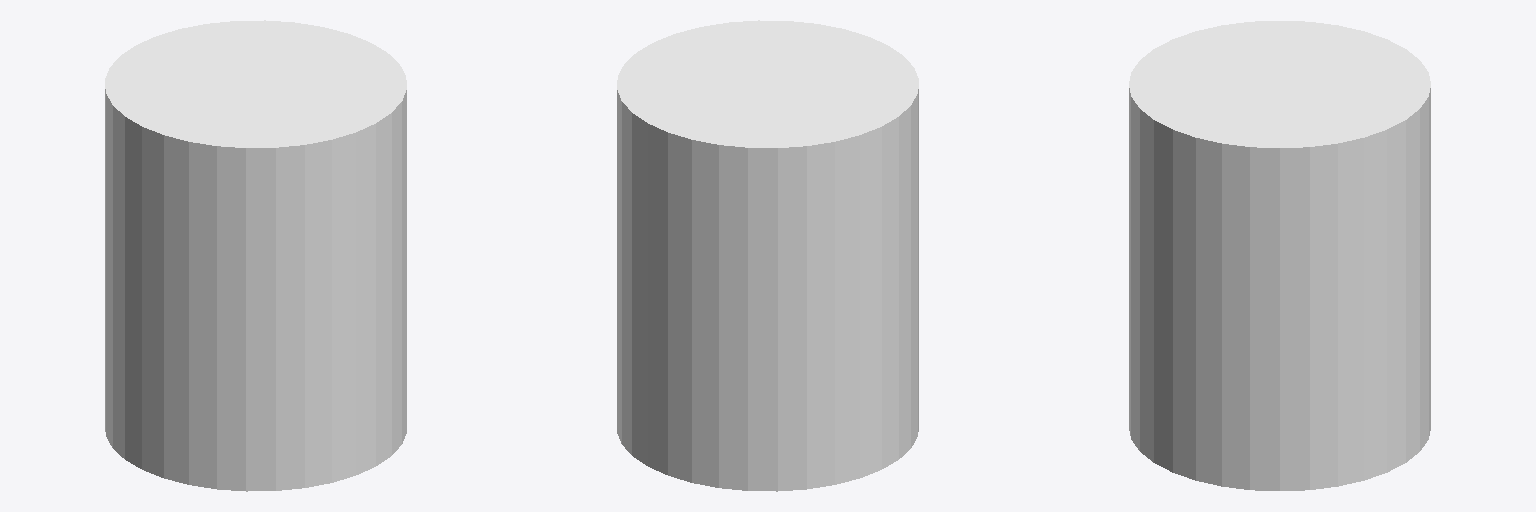
URDF robot description (digit):
<?xml version="1.0" ?>
<robot name="digit">
  <link concave="yes" name="baseLink">
    <inertial>
      <origin rpy="0 0 0" xyz="0 0 0"/>
       <mass value=".1"/>
       <inertia ixx="1" ixy="0" ixz="0" iyy="1" iyz="0" izz="1"/>
    </inertial>
    <visual>
      <origin rpy="0 0 0" xyz="0 0 0"/>
      <geometry>
        <cylinder radius="0.02" length="0.05"/>
        <!-- <mesh filename="cylinder.stl" scale="1.0"/> -->
      </geometry>
      <material name="white">
        <color rgba="1 1 1 1"/>
      </material>
    </visual>
    <collision concave="yes">
      <origin rpy="0 0 0" xyz="0 0 0"/>
      <geometry>
        <cylinder radius="0.02" length="0.05"/>
        <!-- <mesh filename="cylinder.stl" scale="1.0"/> -->
      </geometry>
    </collision>
  </link>
</robot>

--- Facts derived from the render (not from the file) ---
3 views of the same robot in one strip: view 1: azimuth 30°, elevation 25°; view 2: azimuth 150°, elevation 25°; view 3: azimuth 270°, elevation 25° (orthographic).
Robot: digit — 1 links, 0 joints (none); root link baseLink; default pose: all joints at 0.
Visible links, largest first — view 1: baseLink; view 2: baseLink; view 3: baseLink.
Boxes of the visible links, x1,y1,x2,y2 form: baseLink: [105, 20, 406, 491]; baseLink: [617, 20, 918, 491]; baseLink: [1129, 21, 1430, 490].
Bounding box of the posed robot: 0.04 × 0.04 × 0.05 m (x, y, z).
Geometry: primitives only (box / cylinder / sphere), no mesh files.